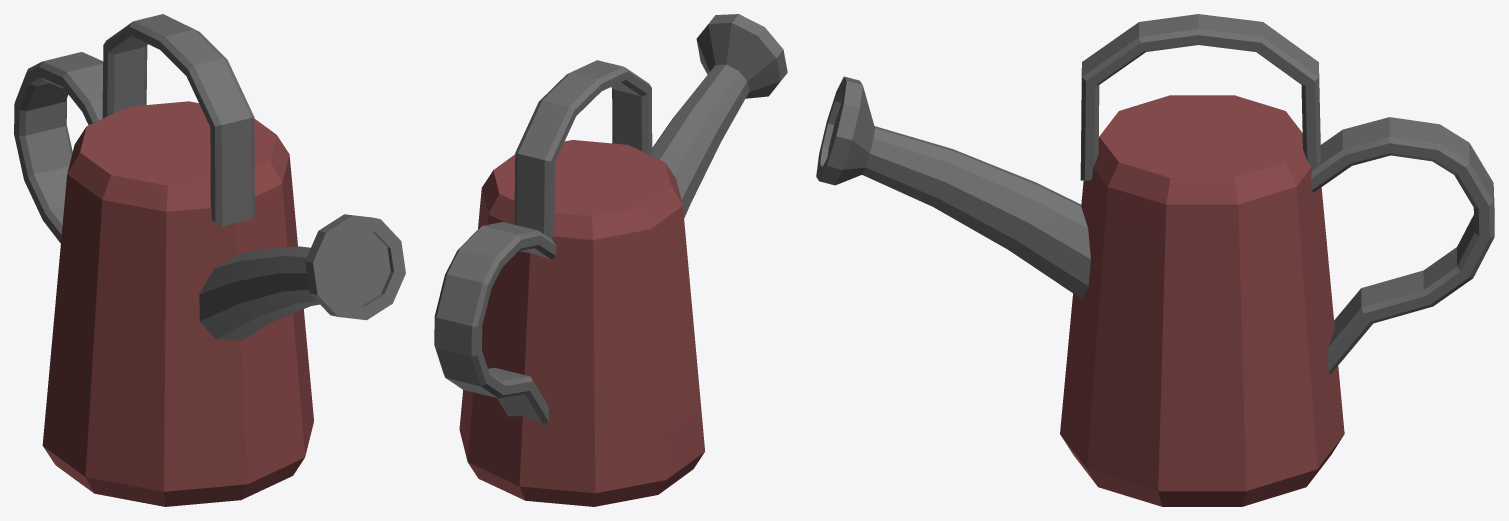
File: watersprinkler_a004.glb
3 views of the same model, side by side, from view 1: azimuth 30°, elevation 25°; view 2: azimuth 150°, elevation 25°; view 3: azimuth 270°, elevation 25° (orthographic). The views are drawn at different scales.
Parts seen in each view (by area): view 1: watersprinkler_a004; view 2: watersprinkler_a004; view 3: watersprinkler_a004.
Boxes of the visible parts, left/top/right/bottom form: watersprinkler_a004: left=14, top=14, right=405, bottom=506; watersprinkler_a004: left=434, top=14, right=787, bottom=506; watersprinkler_a004: left=816, top=14, right=1494, bottom=506.
Size of the model in its own units: 0.1934 by 0.3417 by 0.4848.
Materials: 1 (1 with a texture image).
